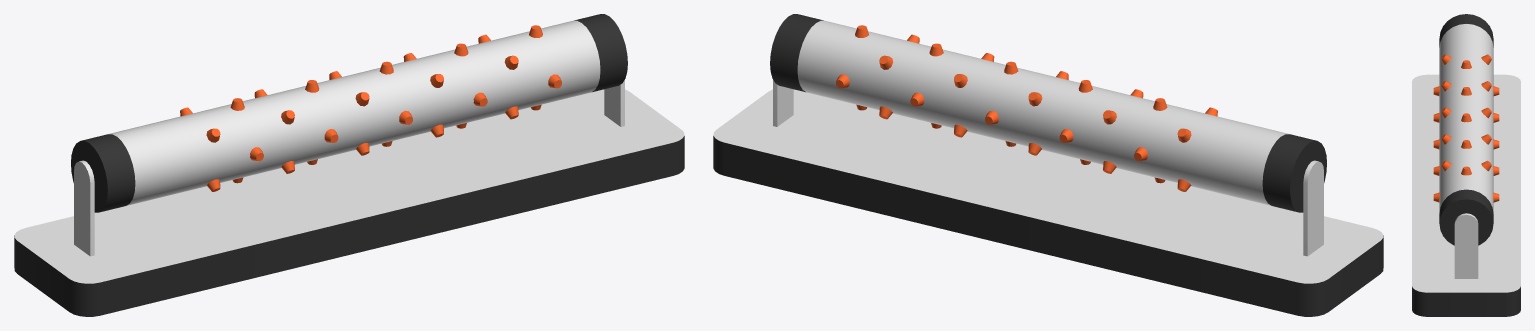
File: Spike Bar.fbx
3 renders of one model, left to right at view 1: azimuth 30°, elevation 25°; view 2: azimuth 150°, elevation 25°; view 3: azimuth 270°, elevation 25°, orthographic. The views are drawn at different scales.
Visible parts, largest first — view 1: Spike Bar, Spike Bar.001; view 2: Spike Bar, Spike Bar.001; view 3: Spike Bar, Spike Bar.001.
Part boxes in pixels (x1,y1,x2,y2): Spike Bar: [14, 80, 684, 316]; Spike Bar.001: [71, 14, 627, 212]; Spike Bar: [713, 80, 1383, 316]; Spike Bar.001: [770, 14, 1326, 212]; Spike Bar: [1412, 74, 1520, 316]; Spike Bar.001: [1433, 14, 1499, 245].
Bounding box in the file's own units: 695 × 160 × 147.
